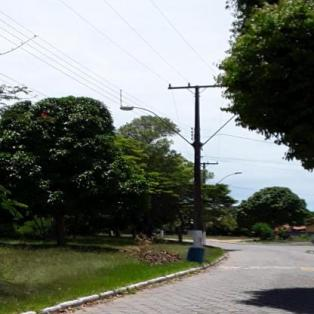Poste: (192, 84, 202, 246)
